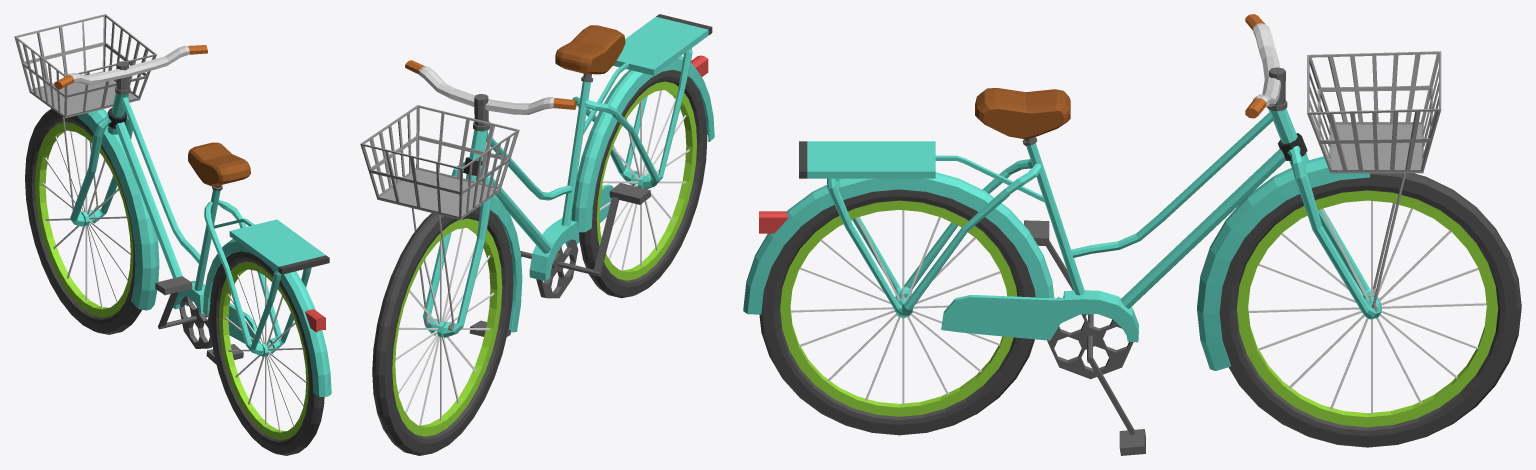
Rendered from bicycle.fbx.
3 views of the same model, side by side, from view 1: azimuth 30°, elevation 25°; view 2: azimuth 150°, elevation 25°; view 3: azimuth 270°, elevation 25° (orthographic). The views are drawn at different scales.
Visible parts, largest first — view 1: bicyclemain, front, frontwhell, backwhell, pedal, handlebars; view 2: bicyclemain, frontwhell, front, backwhell, pedal, handlebars; view 3: bicyclemain, frontwhell, backwhell, front, pedal, handlebars.
Boxes of the visible parts, box(x1,y1,x2,y2) form: bicyclemain: box(107, 93, 331, 396); front: box(14, 14, 159, 310); frontwhell: box(25, 108, 141, 334); backwhell: box(209, 251, 324, 455); pedal: box(155, 276, 243, 364); handlebars: box(54, 45, 207, 94); bicyclemain: box(463, 14, 714, 281); frontwhell: box(372, 206, 513, 455); front: box(360, 105, 522, 337); backwhell: box(579, 70, 707, 298); pedal: box(469, 183, 650, 336); handlebars: box(405, 60, 576, 131); bicyclemain: box(743, 88, 1307, 342); frontwhell: box(1219, 173, 1521, 447); backwhell: box(759, 189, 1035, 435); front: box(1197, 51, 1441, 370); pedal: box(1024, 220, 1145, 455); handlebars: box(1245, 14, 1287, 118).
Bounding box in the file's own units: 148 × 276 × 505.
